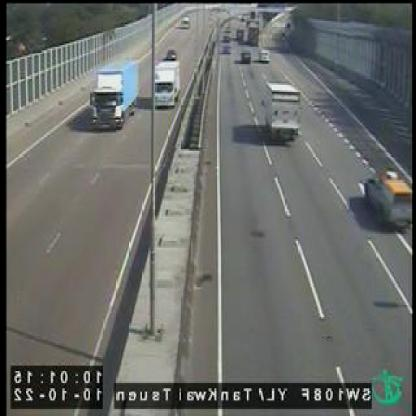Car: (364, 170, 410, 228), (220, 35, 230, 52), (240, 50, 251, 63), (259, 48, 269, 62), (180, 17, 190, 28), (165, 50, 175, 60)
Truck: (91, 57, 142, 130), (265, 79, 302, 144), (156, 58, 180, 108)
